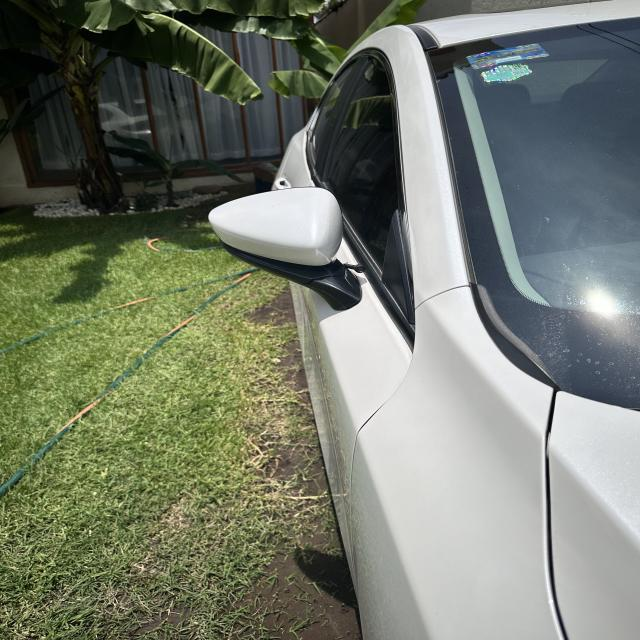hidden camera: (355, 265, 366, 272)
